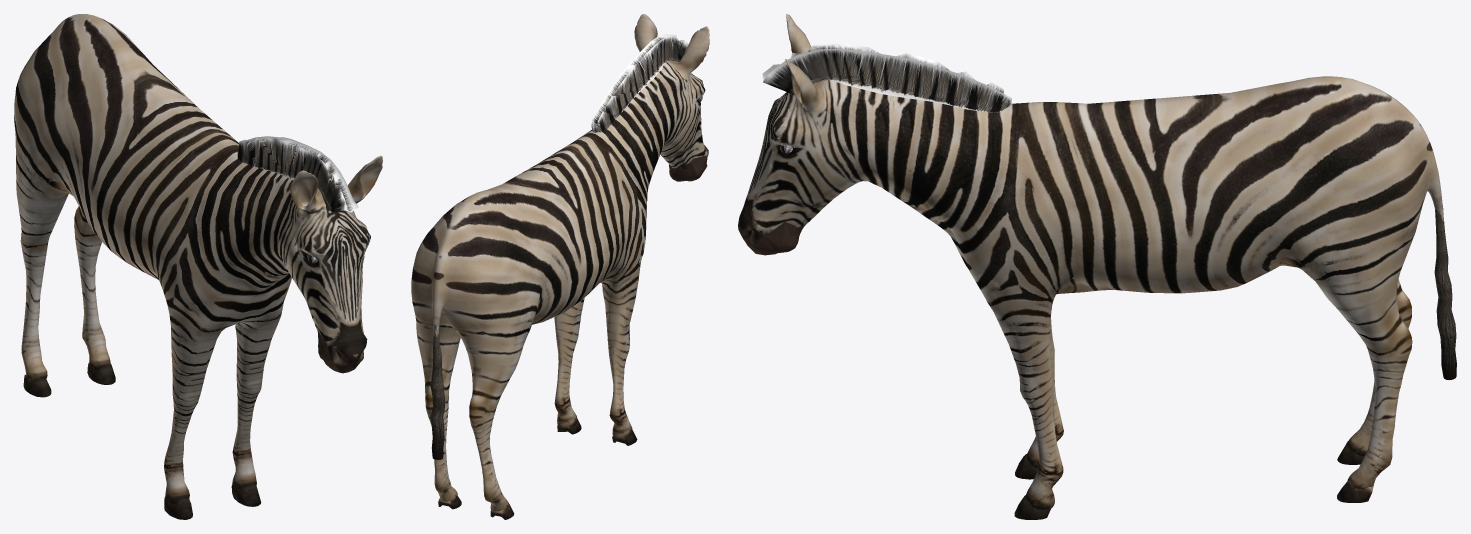
The picture shows the model from 3 angles, left to right: view 1: azimuth 30°, elevation 25°; view 2: azimuth 150°, elevation 25°; view 3: azimuth 270°, elevation 25°; orthographic projection. The views are drawn at different scales.
Parts seen in each view (by area): view 1: zebra; view 2: zebra; view 3: zebra.
Part boxes in pixels (left/top/right/bottom): zebra: left=14, top=14, right=382, bottom=519; zebra: left=411, top=14, right=709, bottom=519; zebra: left=738, top=14, right=1456, bottom=519.
Bounding box in the file's own units: 38.93 × 120 × 166.
4 materials, 4 textured.
